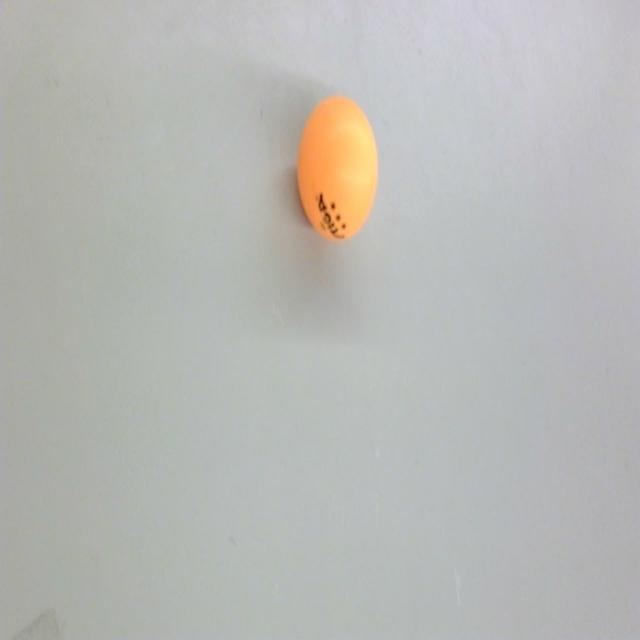ball: (295, 94, 382, 246)
